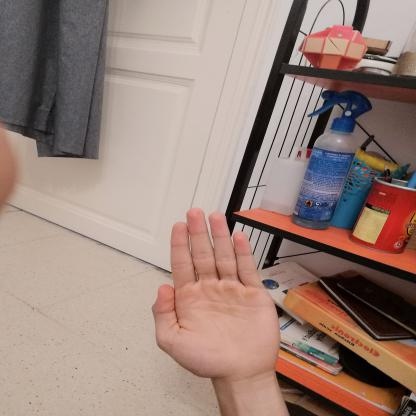SEEN: (140, 201, 290, 387)
